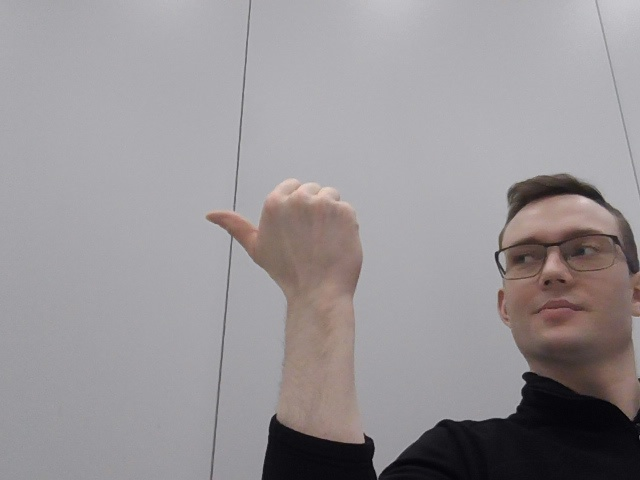right: (193, 167, 408, 302)
